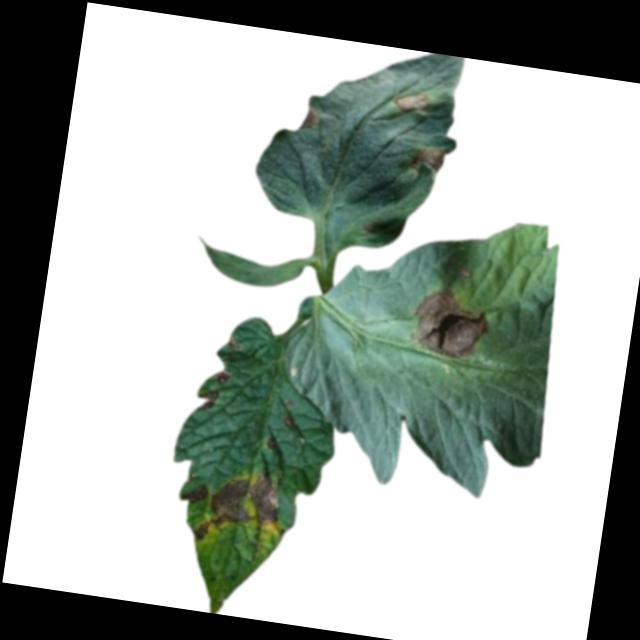Early_blight: (193, 465, 284, 550), (408, 286, 494, 364), (383, 85, 431, 115), (413, 141, 447, 171), (179, 473, 210, 504), (192, 385, 221, 414), (298, 106, 319, 129), (214, 369, 230, 384), (282, 413, 296, 429), (264, 436, 276, 450)
